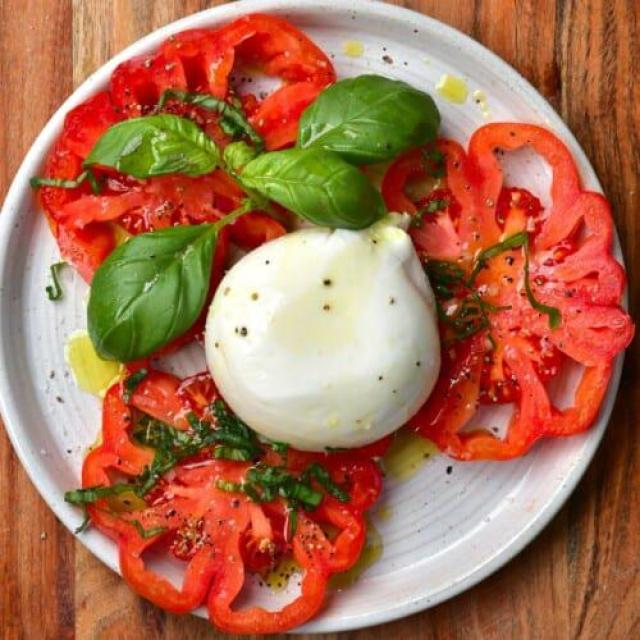Tomato: (74, 360, 380, 626), (401, 132, 624, 464)
